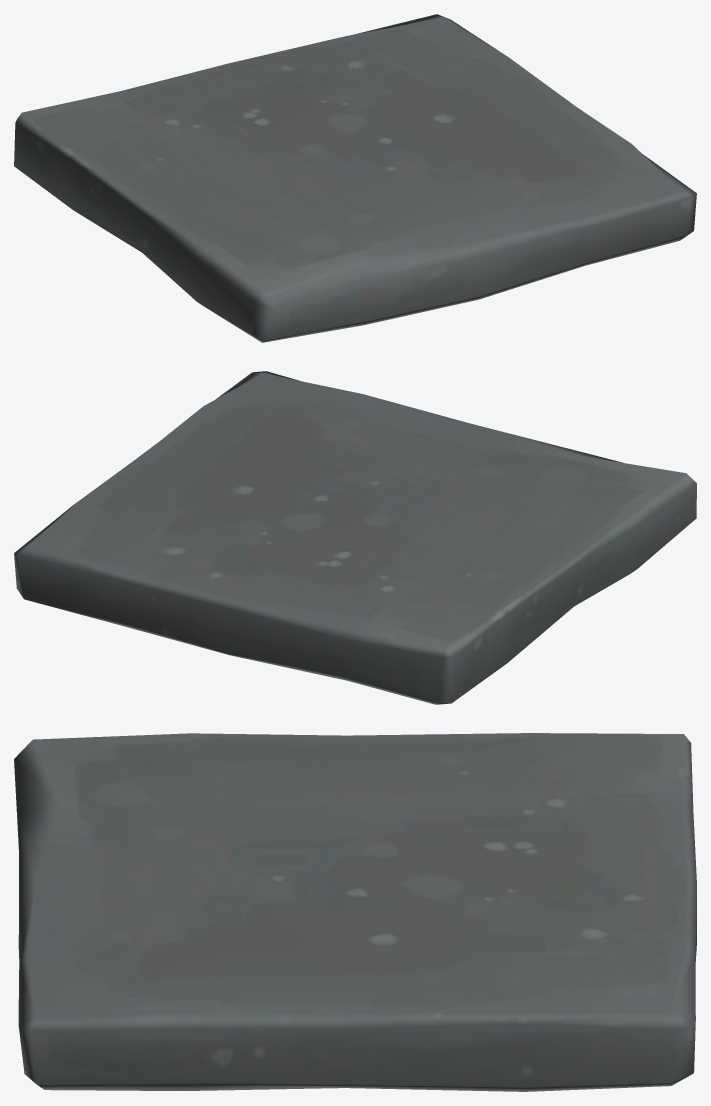
The model's file is wall.glb.
The picture shows the model from 3 angles, top to bottom: view 1: azimuth 30°, elevation 25°; view 2: azimuth 150°, elevation 25°; view 3: azimuth 270°, elevation 25°; orthographic projection. The views are drawn at different scales.
Parts seen in each view (by area): view 1: StoneThin_0_LOD0; view 2: StoneThin_0_LOD0; view 3: StoneThin_0_LOD0.
Part boxes in pixels (x1,y1,x2,y2): StoneThin_0_LOD0: (14,14,696,342); StoneThin_0_LOD0: (14,371,696,704); StoneThin_0_LOD0: (14,733,696,1091).
Size of the model in its own units: 1.15 by 0.1542 by 1.14.
Materials: 1 (1 with a texture image).
